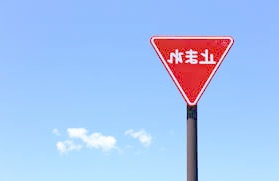Regulatory_sign_triangle: (149, 33, 233, 113)
